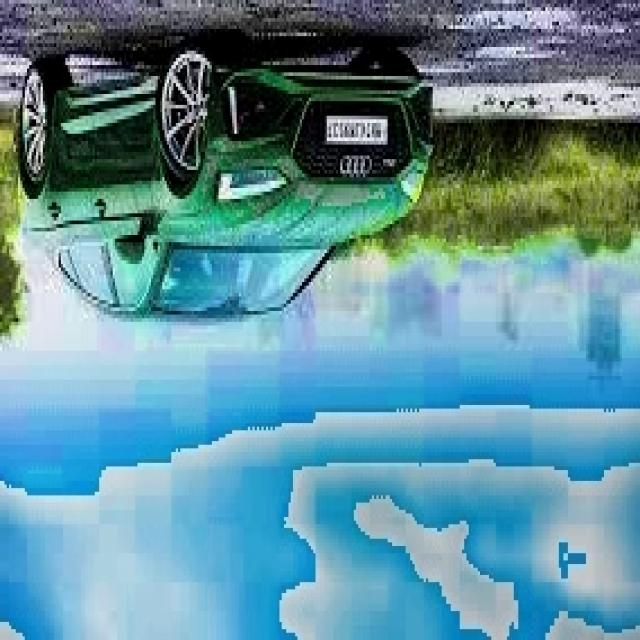green: (30, 49, 434, 324)
